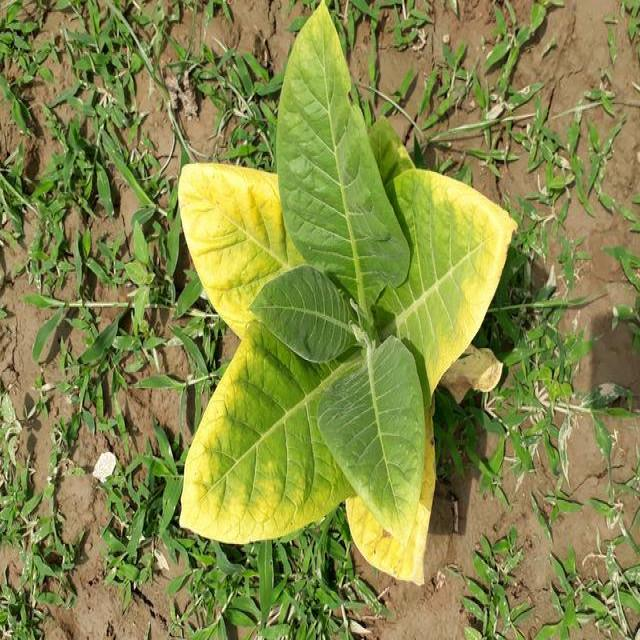crop: (182, 0, 524, 594)
